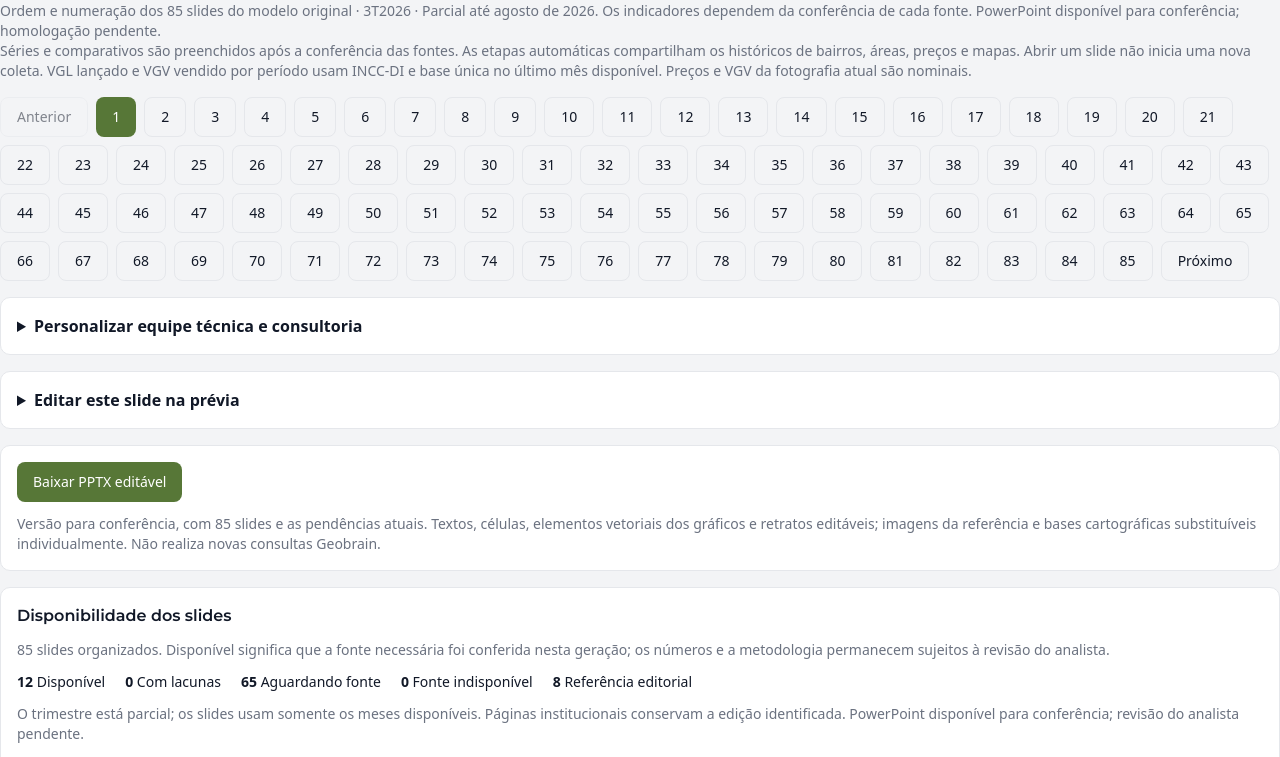
Test: SP — estrutura original e dez slides de lançamentos › não usa um total municipal como substituto de histórico ausente
This screenshot has width=1280, height=757.
Later steps or results of the test are not shown.
Click the button "18".
click(1034, 117)  # box top-left (1009, 97), bottom-right (1059, 137)
(page scrolled)
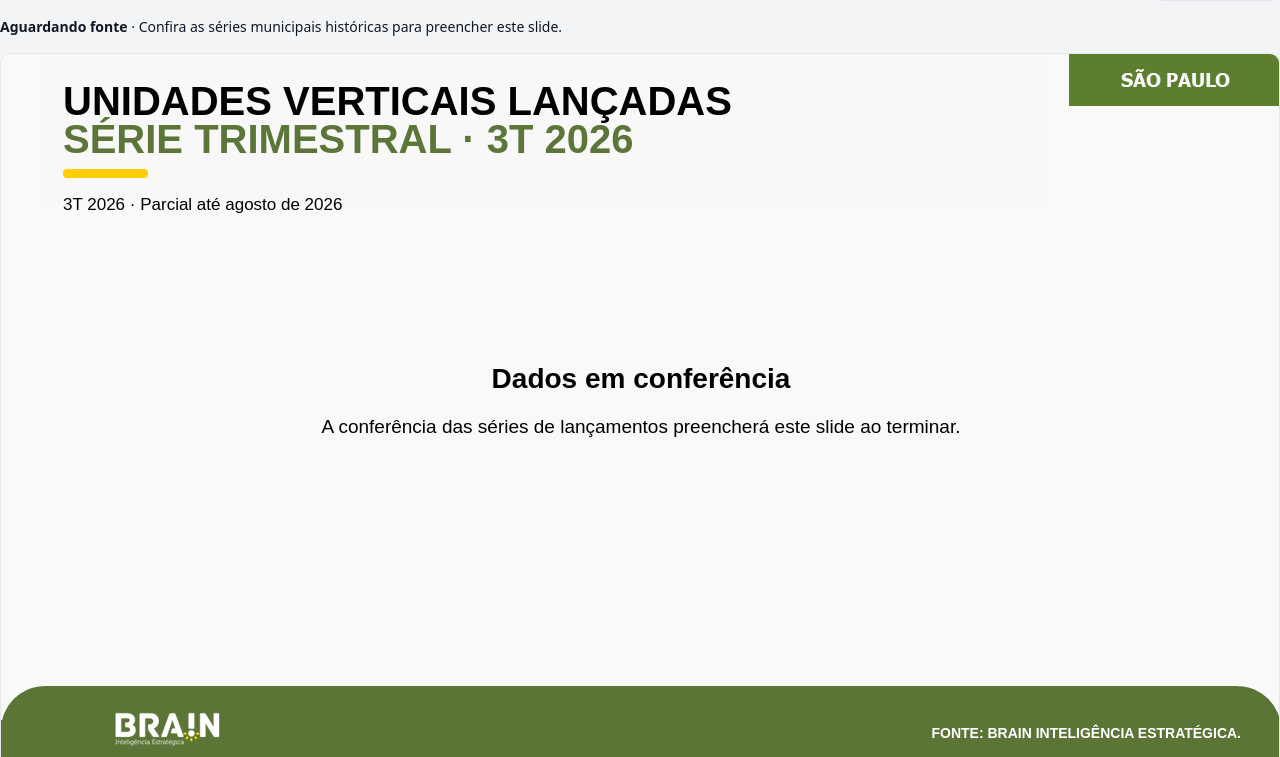
expect the element named "Slide 18: Unidades lançadas, série trimestral" shows "Dados em conferência": met, box top-left (492, 363), bottom-right (790, 394)
